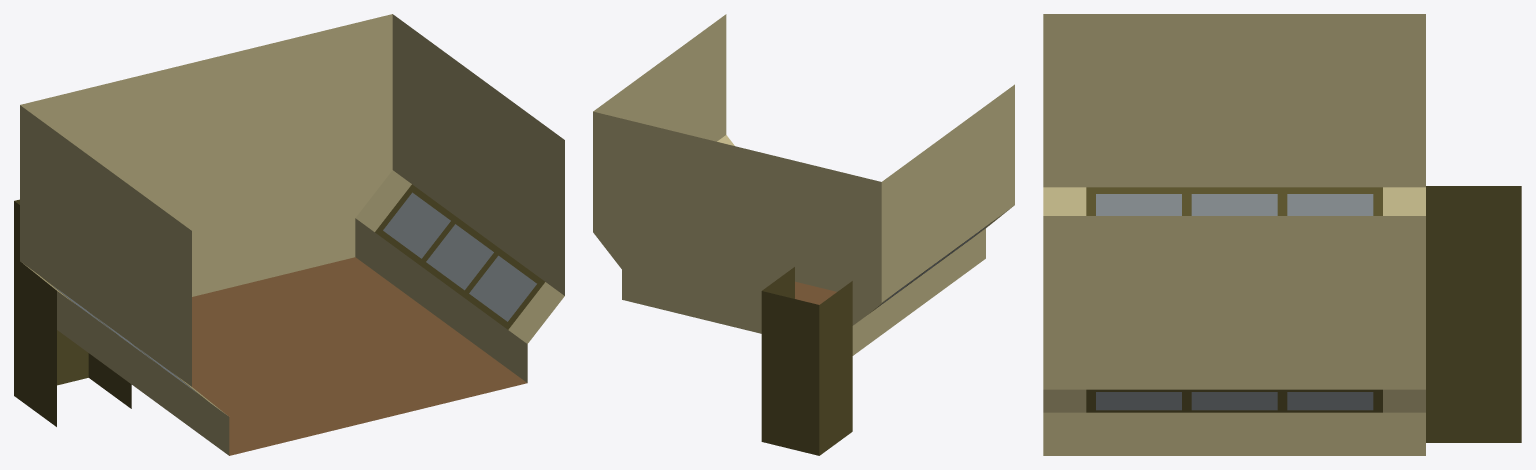
File: SM_capsRoom_wallFloor.fbx
The picture shows the model from 3 angles, left to right: view 1: azimuth 30°, elevation 25°; view 2: azimuth 150°, elevation 25°; view 3: azimuth 270°, elevation 25°; orthographic projection. The views are drawn at different scales.
Parts seen in each view (by area): view 1: CapsRoom_WallFloor; view 2: CapsRoom_WallFloor; view 3: CapsRoom_WallFloor.
Boxes of the visible parts, <box> form: CapsRoom_WallFloor: <box>14,14,564,455</box>; CapsRoom_WallFloor: <box>593,14,1014,455</box>; CapsRoom_WallFloor: <box>1043,14,1521,455</box>.
Size of the model in its own units: 10 by 8.5 by 10.
